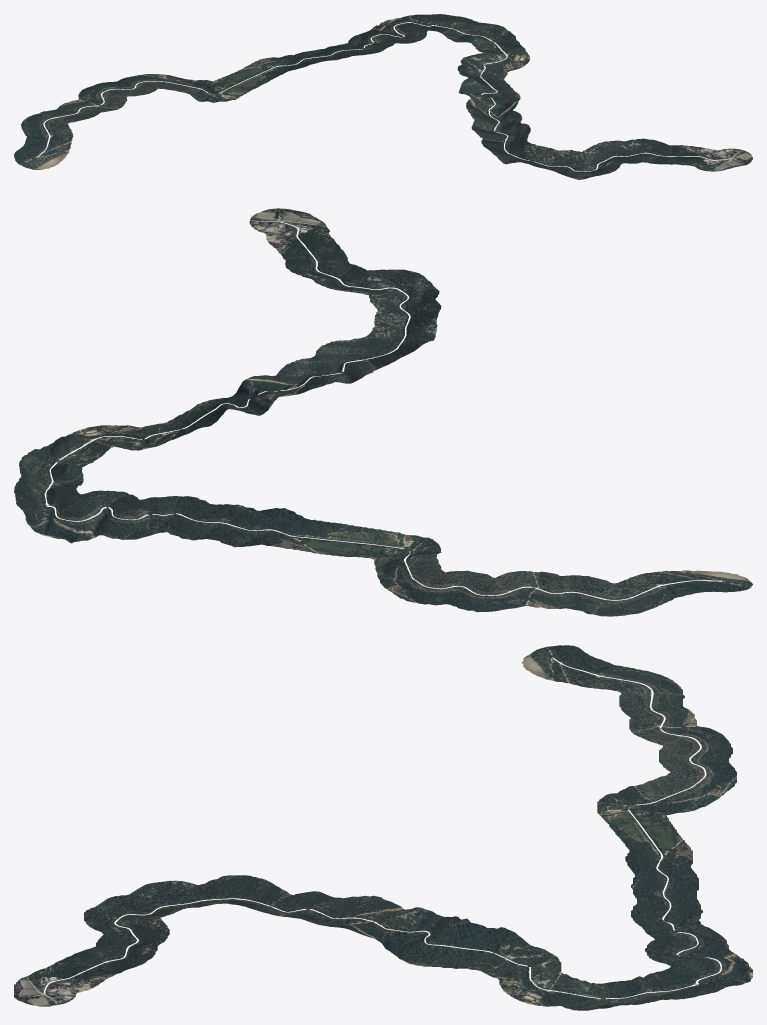
Rendered from terrain.glb.
3 views of the same model, one above another, from view 1: azimuth 30°, elevation 25°; view 2: azimuth 150°, elevation 25°; view 3: azimuth 270°, elevation 25° (orthographic). The views are drawn at different scales.
Visible parts, largest first — view 1: terrain_916500_6241000, terrain_916500_6243000, terrain_914000_6243000, terrain_916000_6241500, terrain_916500_6242500, terrain_915000_6243000, terrain_916000_6242000, terrain_916000_6241000, terrain_914500_6243500, terrain_915500_6243000, terrain_916500_6243500, terrain_916000_6243000 (+8 smaller); view 2: terrain_914000_6243000, terrain_916000_6241500, terrain_916500_6243000, terrain_915000_6243000, terrain_915500_6243000, terrain_916500_6241000, terrain_916000_6241000, terrain_916000_6242000, terrain_914500_6243500, terrain_916500_6243500, terrain_916500_6242500, terrain_916000_6243000 (+6 smaller); view 3: terrain_916500_6242500, terrain_916000_6242000, terrain_914000_6243000, terrain_916500_6243000, terrain_915000_6243000, terrain_916500_6241000, terrain_916000_6241500, terrain_916000_6241000, terrain_915500_6243000, terrain_914500_6243500, terrain_916000_6243000, terrain_916500_6243500 (+10 smaller).
Boxes of the visible parts, box(x1,y1,x2,y2) form: terrain_916500_6241000: box(589, 138, 703, 170); terrain_916500_6243000: box(402, 18, 524, 56); terrain_914000_6243000: box(21, 101, 108, 150); terrain_916000_6241500: box(476, 121, 558, 164); terrain_916500_6242500: box(460, 47, 530, 93); terrain_915000_6243000: box(169, 68, 269, 102); terrain_916000_6242000: box(462, 90, 522, 132); terrain_916000_6241000: box(516, 148, 615, 179); terrain_914500_6243500: box(80, 74, 167, 101); terrain_915500_6243000: box(246, 53, 341, 80); terrain_916500_6243500: box(379, 14, 467, 36); terrain_916000_6243000: box(324, 36, 414, 58); terrain_914000_6243000: box(524, 571, 688, 616); terrain_916000_6241500: box(308, 310, 437, 374); terrain_916500_6243000: box(15, 436, 141, 509); terrain_915000_6243000: box(315, 524, 441, 574); terrain_915500_6243000: box(210, 504, 345, 551); terrain_916500_6241000: box(278, 233, 391, 292); terrain_916000_6241000: box(356, 269, 441, 325); terrain_916000_6242000: box(226, 358, 367, 411); terrain_914500_6243500: box(396, 574, 524, 612); terrain_916500_6243500: box(14, 486, 104, 543); terrain_916500_6242500: box(61, 405, 225, 449); terrain_916000_6243000: box(105, 491, 232, 532); terrain_916500_6242500: box(431, 936, 557, 1006); terrain_916000_6242000: box(307, 891, 432, 946); terrain_914000_6243000: box(557, 671, 682, 729); terrain_916500_6243000: box(557, 951, 682, 1008); terrain_915000_6243000: box(597, 783, 682, 841); terrain_916500_6241000: box(58, 922, 169, 979); terrain_916000_6241500: box(182, 875, 307, 920); terrain_916000_6241000: box(84, 880, 183, 930); terrain_915500_6243000: box(618, 836, 682, 900); terrain_914500_6243500: box(681, 729, 736, 788); terrain_916000_6243000: box(631, 890, 682, 956); terrain_916500_6243500: box(681, 956, 752, 998).
Size of the model in its own units: 3536 by 201 by 2960.
Materials: 26 (26 with a texture image).
